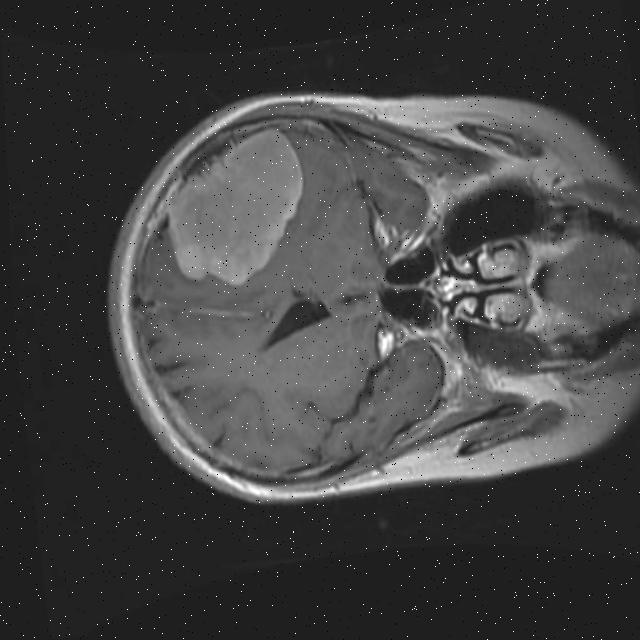Meningioma: (157, 123, 314, 294)
